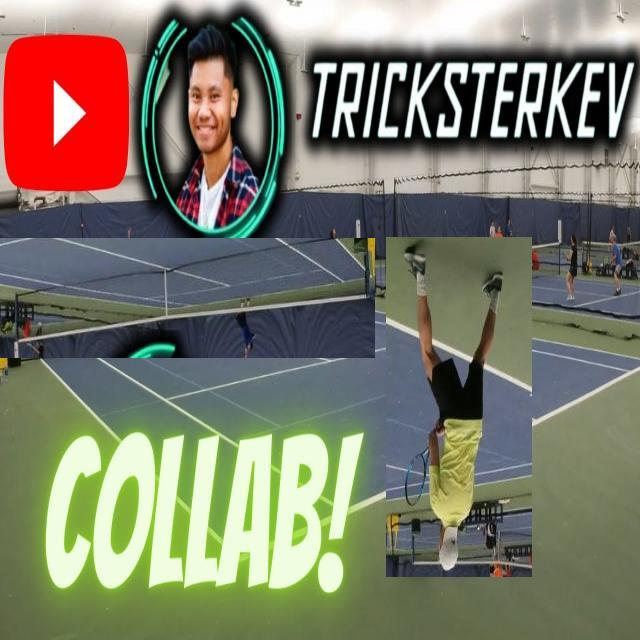net: (0, 238, 375, 358)
player: (386, 237, 532, 577)
